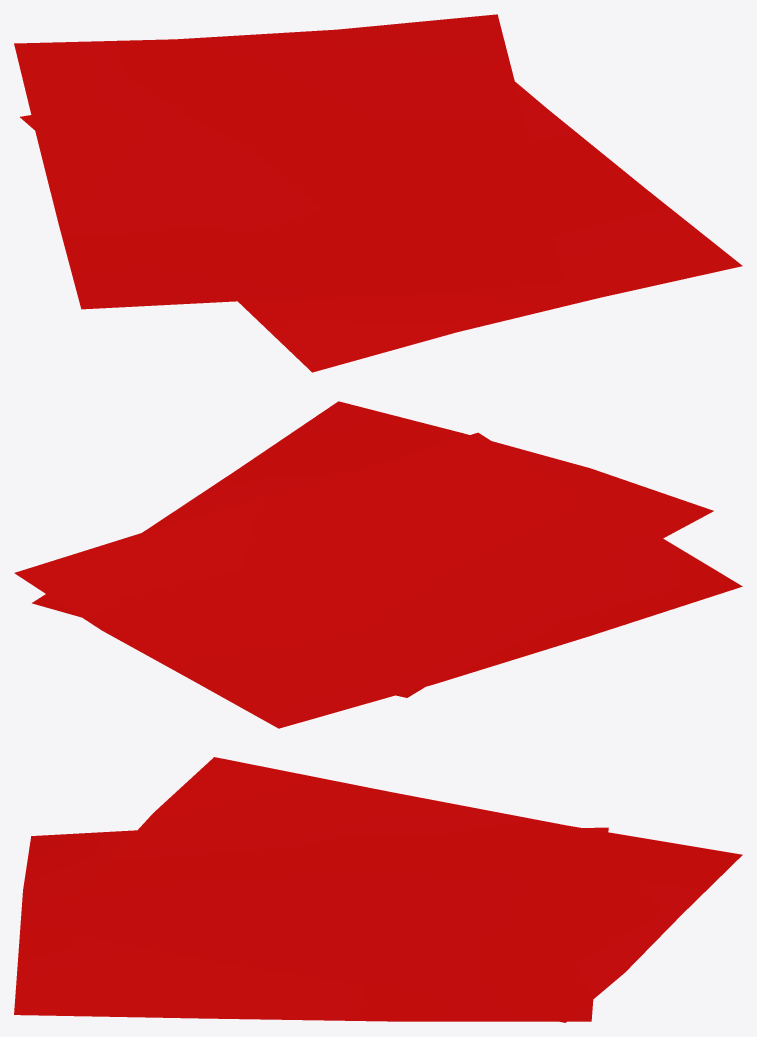
File: Attic_Paper_03_LP.glb
The picture shows the model from 3 angles, top to bottom: view 1: azimuth 30°, elevation 25°; view 2: azimuth 150°, elevation 25°; view 3: azimuth 270°, elevation 25°; orthographic projection. The views are drawn at different scales.
Visible parts, largest first — view 1: Attic_Paper_03_LP; view 2: Attic_Paper_03_LP; view 3: Attic_Paper_03_LP.
Boxes of the visible parts, x1,y1,x2,y2 form: Attic_Paper_03_LP: (14, 14, 742, 372); Attic_Paper_03_LP: (14, 401, 742, 728); Attic_Paper_03_LP: (14, 757, 742, 1022).
Size of the model in its own units: 0.3262 by 0.0153 by 0.3694.
